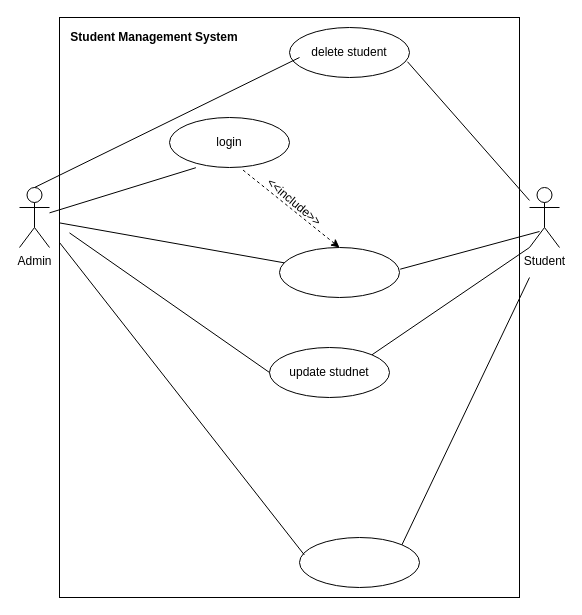
The diagram is 582 pixels wide and 615 high, and some of its shapes have lost their labels. The shapes that lost their labels are listed below. From the top down, each one's centre as x and y in pixels, then its label:
At pixel 339 272: "register student".
At pixel 359 562: "view student".
